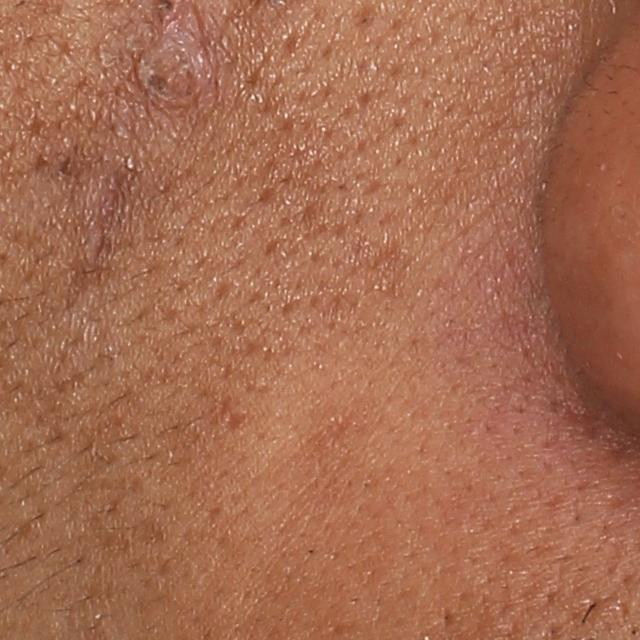atrophic_scar: (81, 171, 132, 272), (211, 273, 241, 303), (223, 407, 249, 432)
